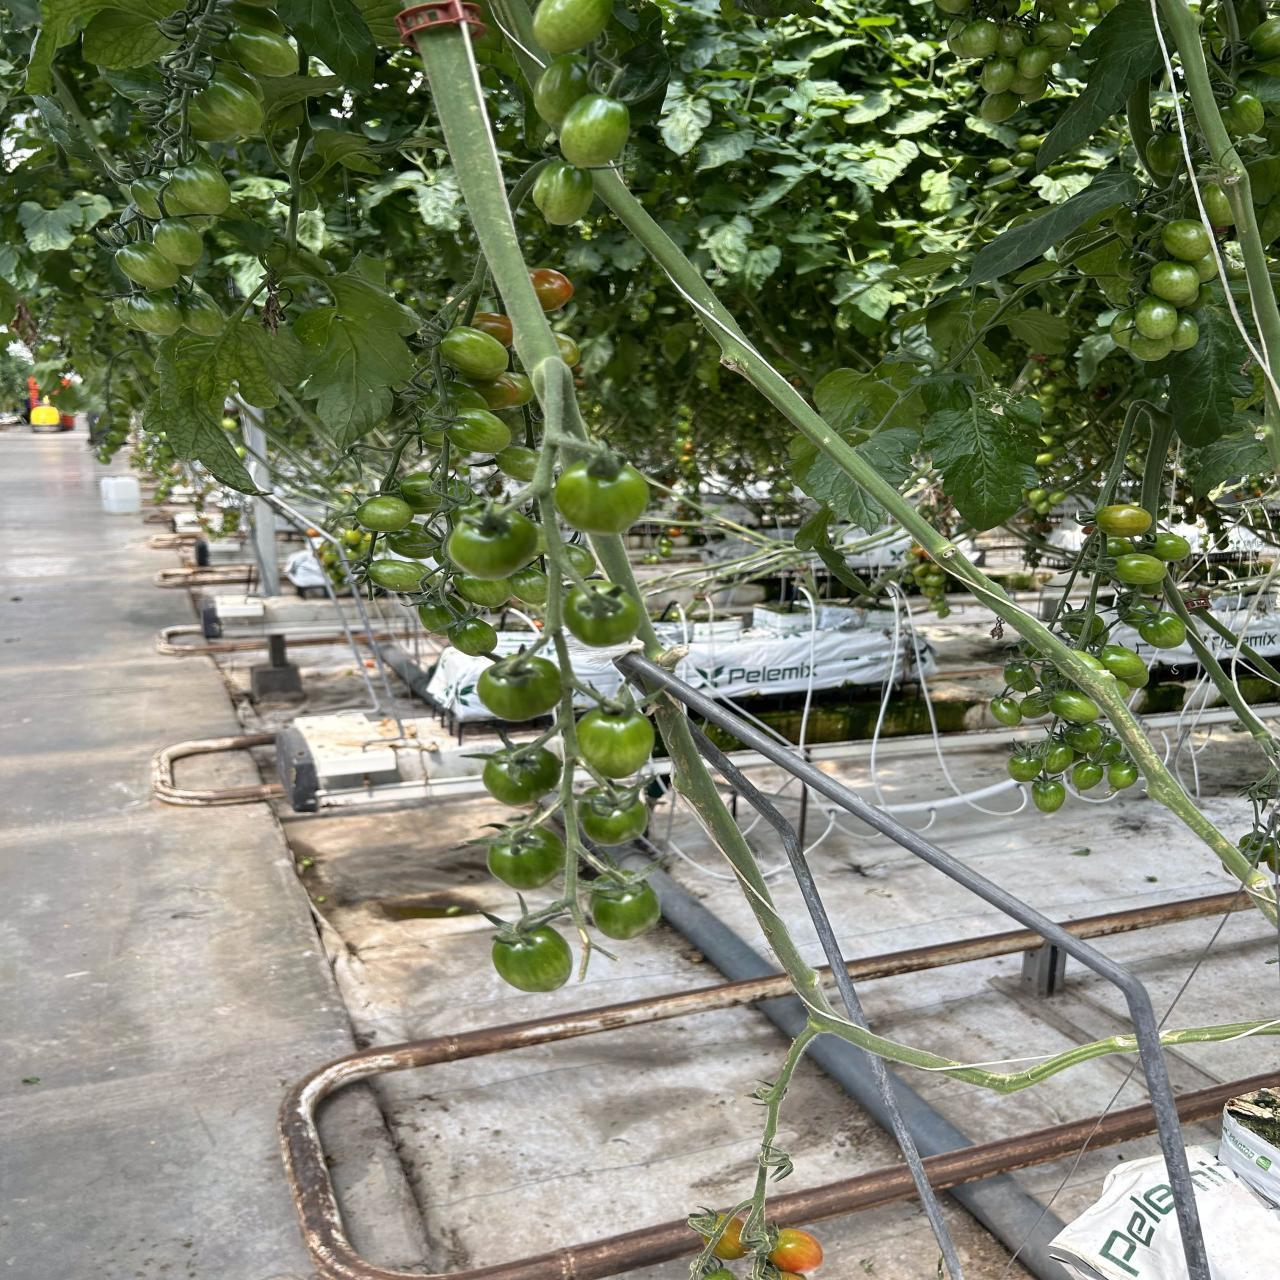Hoja: (143, 316, 309, 492), (1037, 0, 1162, 170), (292, 277, 413, 443), (966, 171, 1138, 285), (924, 395, 1037, 530), (27, 0, 186, 94), (277, 0, 375, 89), (797, 455, 883, 527), (855, 427, 921, 489)
Pedunculo: (591, 165, 1083, 679), (397, 0, 611, 760), (1159, 0, 1280, 375), (1082, 678, 1247, 879), (1266, 386, 1280, 464)
Tomate: (556, 451, 647, 533), (448, 505, 538, 580), (189, 64, 265, 143), (477, 654, 561, 721), (229, 0, 299, 76), (577, 710, 654, 778), (492, 927, 572, 992), (560, 94, 629, 168), (483, 742, 561, 805), (563, 585, 640, 646), (488, 830, 565, 891), (533, 0, 612, 55), (592, 881, 660, 940), (532, 161, 593, 225), (533, 55, 587, 125), (438, 327, 509, 380), (579, 795, 648, 844), (164, 165, 230, 215), (115, 243, 179, 290), (113, 295, 182, 336), (449, 409, 511, 454), (1148, 260, 1200, 307), (154, 219, 203, 266), (355, 495, 415, 532), (1099, 645, 1148, 688), (368, 559, 430, 592), (1162, 219, 1210, 261), (1095, 504, 1152, 538), (949, 20, 1000, 59), (1135, 297, 1178, 340), (184, 291, 225, 336), (1138, 612, 1186, 648), (1117, 553, 1167, 585), (1050, 690, 1101, 722), (979, 89, 1020, 123), (1007, 747, 1042, 783), (981, 57, 1015, 93), (1064, 724, 1102, 754), (1071, 758, 1104, 791), (1032, 781, 1065, 812), (989, 696, 1022, 727), (1108, 758, 1138, 791), (1044, 744, 1075, 775), (1020, 694, 1049, 717)
